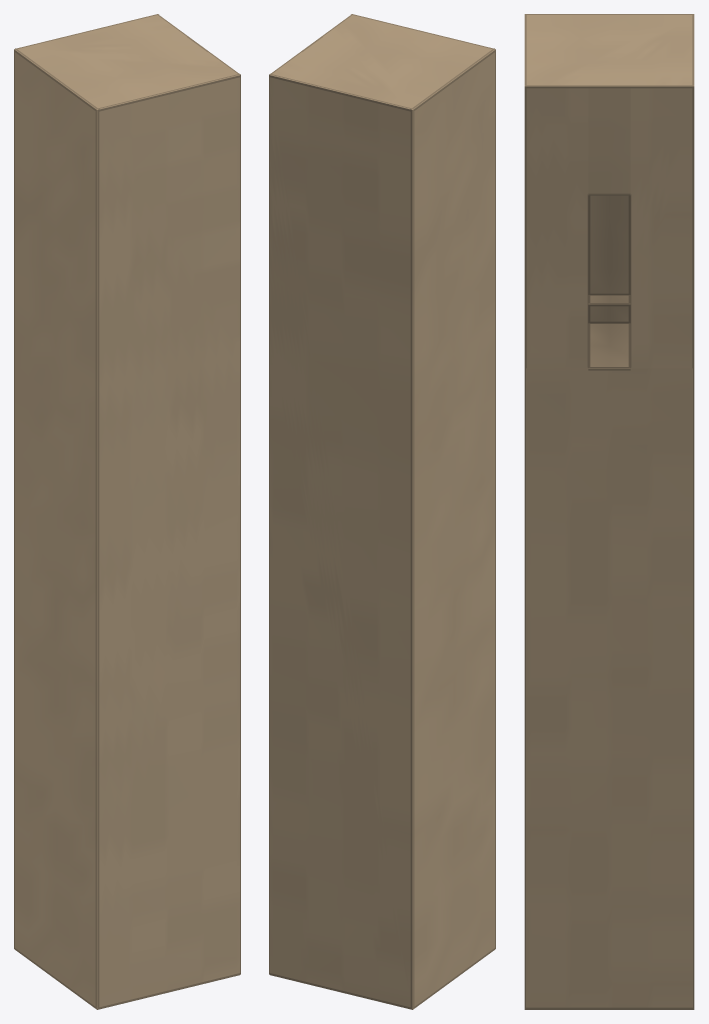
The picture shows the model from 3 angles, left to right: view 1: azimuth 30°, elevation 25°; view 2: azimuth 150°, elevation 25°; view 3: azimuth 270°, elevation 25°; orthographic projection. The views are drawn at different scales.
Parts seen in each view (by area): view 1: part-a; view 2: part-a; view 3: part-a.
Part boxes in pixels (x1,y1,x2,y2): part-a: (14, 14, 240, 1009); part-a: (269, 14, 495, 1009); part-a: (524, 14, 694, 1009).
Size of the model in its own units: 0.1209 by 0.7209 by 0.1208.
